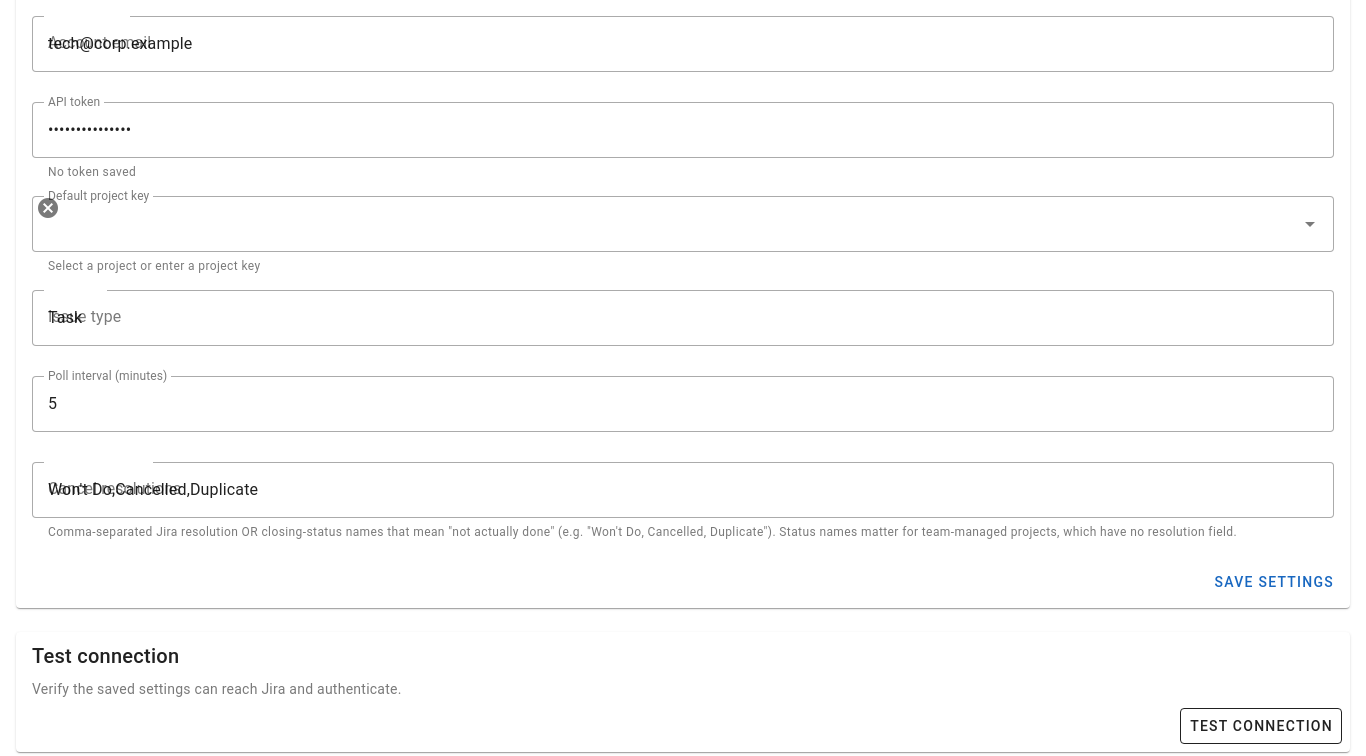
Test: JiraSettingsPage › CLEARS the token and refreshes the hint after a successful save
(page scrolled)
Click the button "Save settings" at coordinates (1274, 582), box x1=1205 y1=564 x2=1342 y2=600
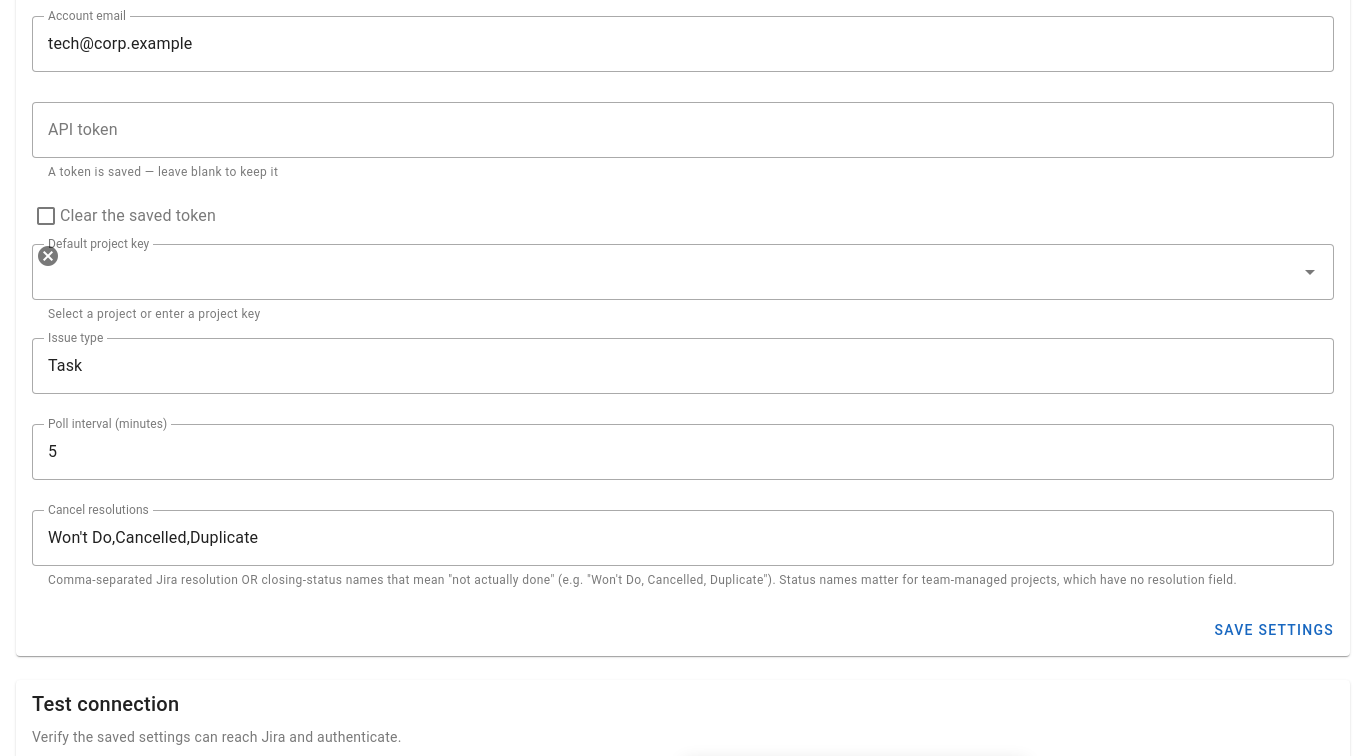
Result: the text "A token is saved" is shown at x1=48 y1=165 x2=278 y2=179
